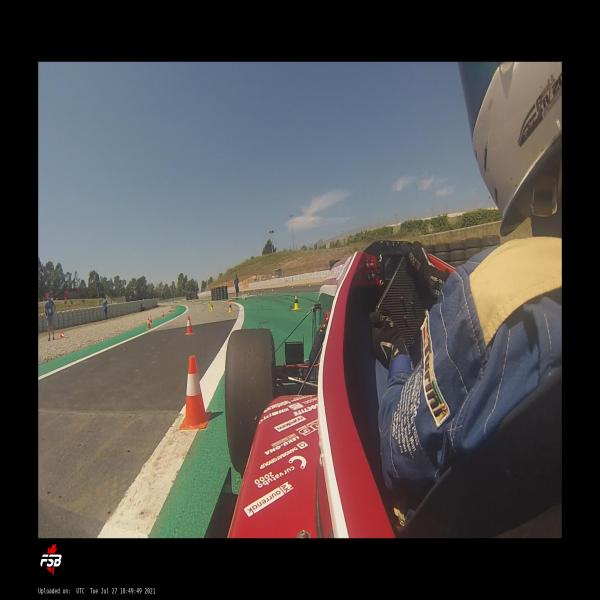orange_cone: (178, 355, 212, 430), (185, 315, 195, 336), (146, 317, 152, 330), (60, 332, 65, 337), (150, 314, 152, 323), (162, 311, 164, 317), (261, 290, 263, 296), (173, 307, 174, 312)
yellow_cone: (291, 295, 301, 311), (228, 302, 232, 313), (210, 302, 214, 312), (202, 299, 205, 305), (247, 290, 250, 295), (208, 300, 210, 306), (210, 302, 211, 309), (241, 295, 242, 300)
